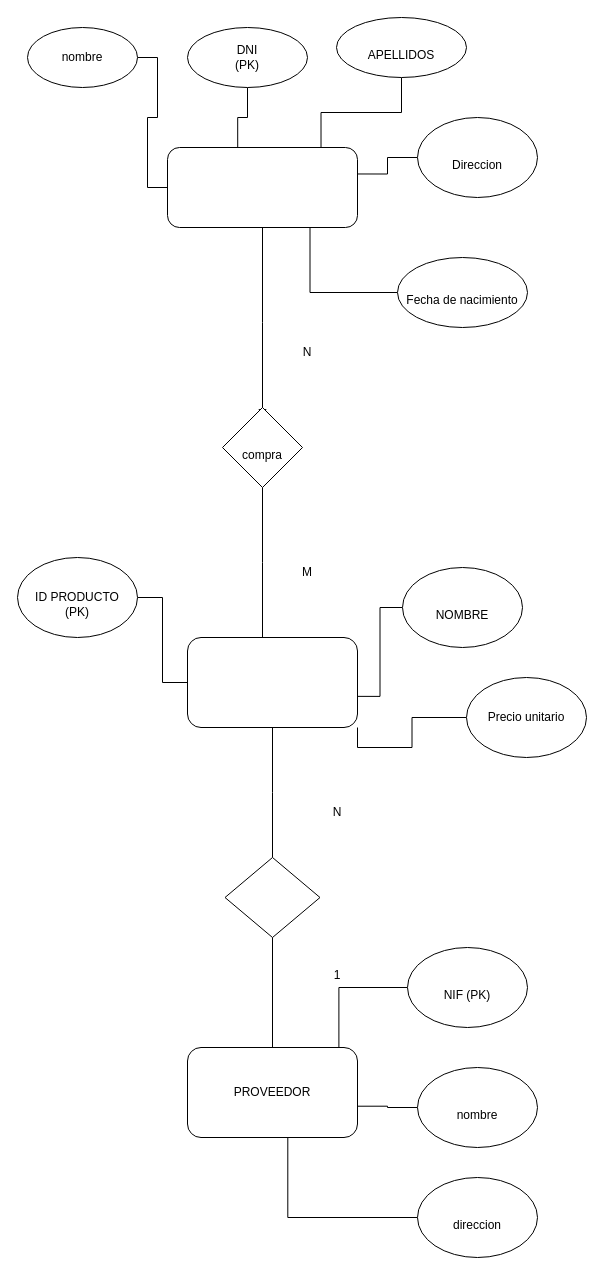
Image size: 604x1275. Some labels were removed from this diagram. The centre of each missing label's shape, as x and y in pixels:
CLIENTE: (262,187)
PRODUCTO: (272,682)
SUMINISTRA: (272,897)
